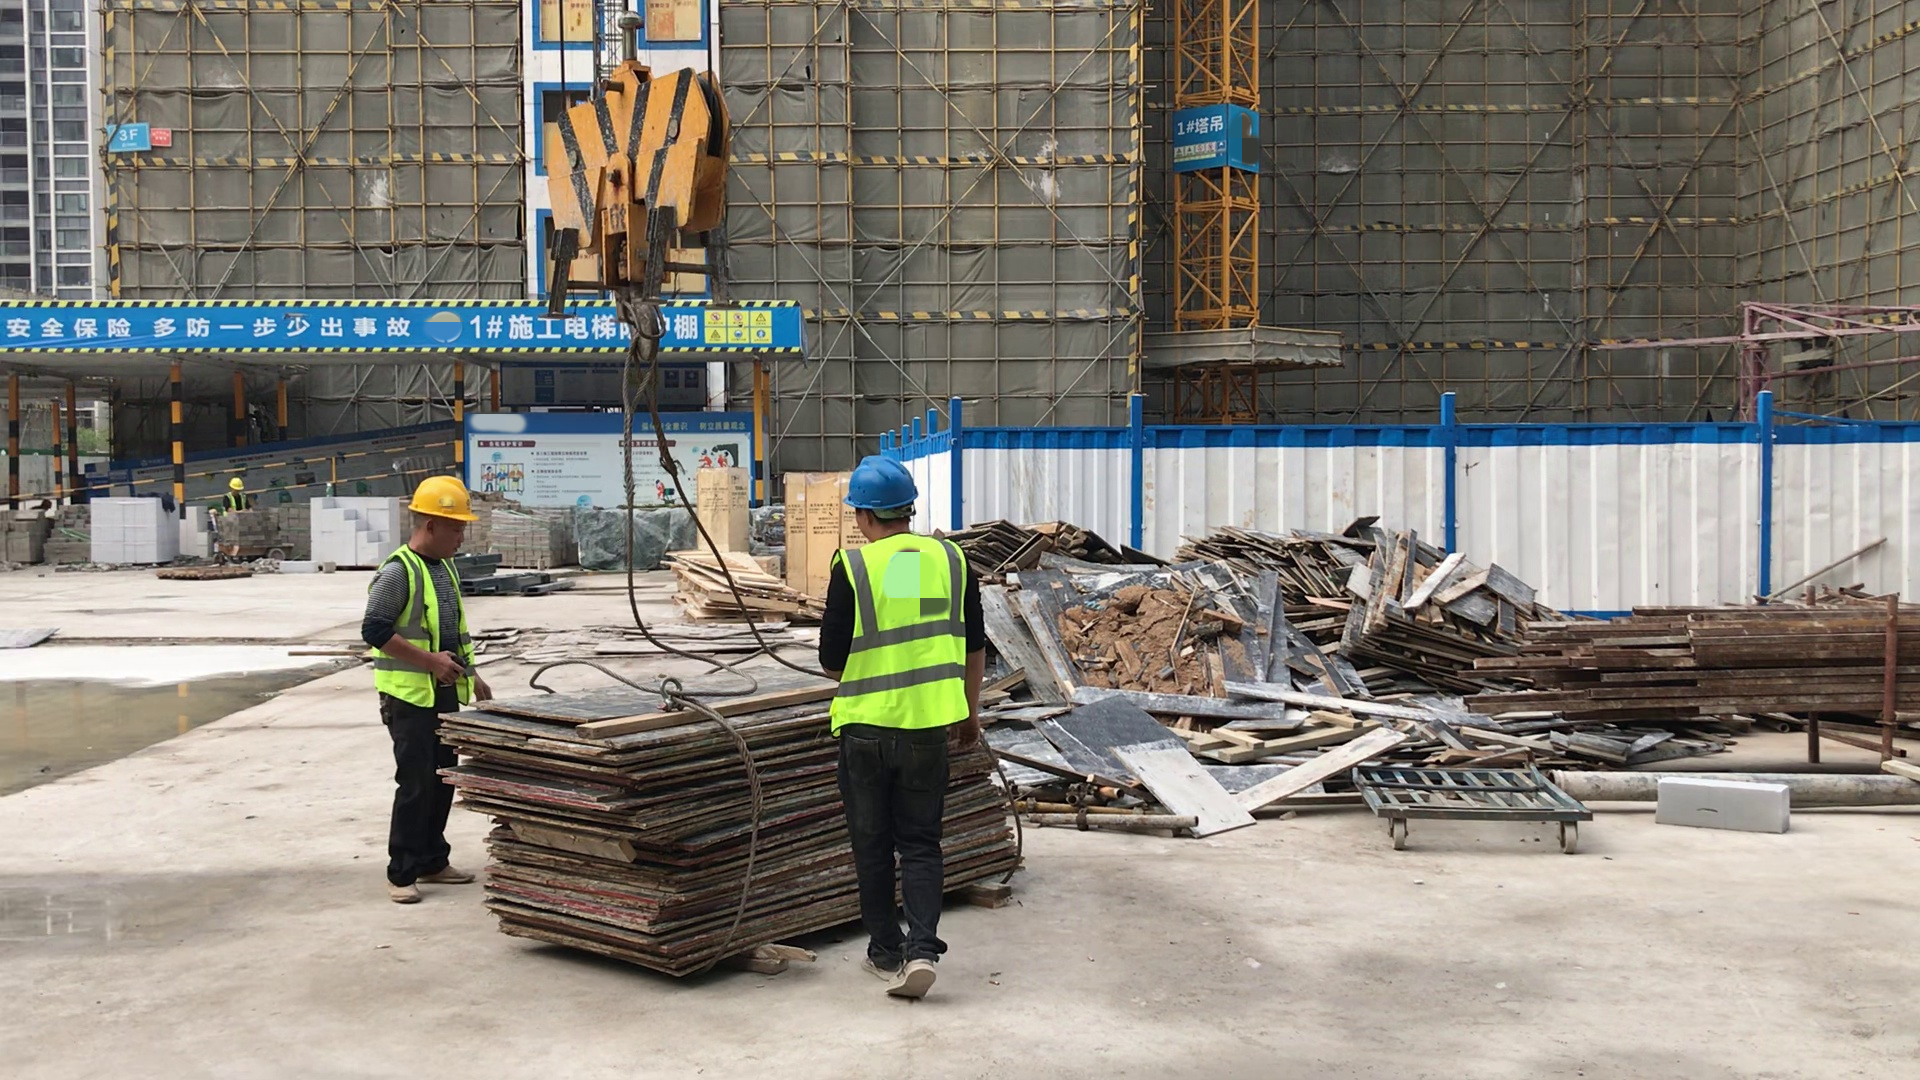board: (435, 691, 1061, 983)
brick: (86, 493, 210, 568), (305, 495, 398, 568)
helmet: (844, 453, 917, 510), (409, 475, 476, 522), (229, 476, 243, 490)
hook: (543, 60, 729, 364)
person: (822, 454, 984, 1007), (365, 475, 490, 901), (221, 475, 254, 512)
slogan: (4, 309, 414, 347), (703, 305, 774, 343), (1175, 141, 1219, 161)
vest: (834, 533, 969, 739), (371, 544, 476, 707), (225, 492, 247, 511)
